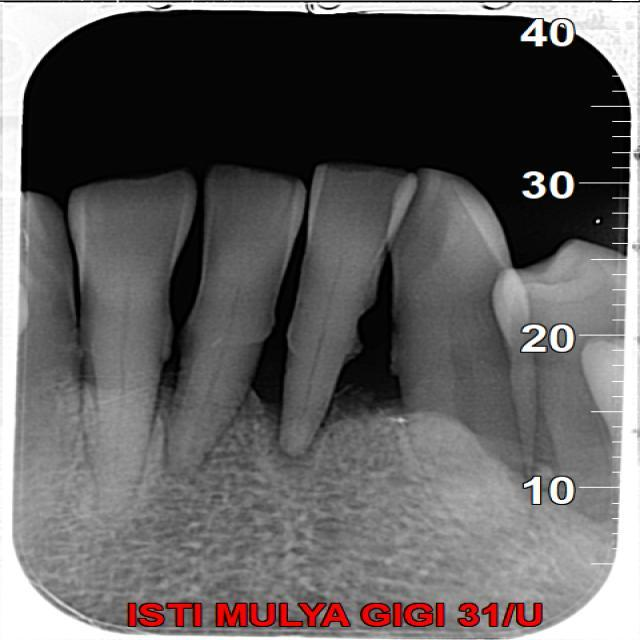individual-tooth-8tto: (383, 173, 536, 542), (64, 177, 202, 515), (162, 161, 313, 464), (279, 162, 422, 453)
